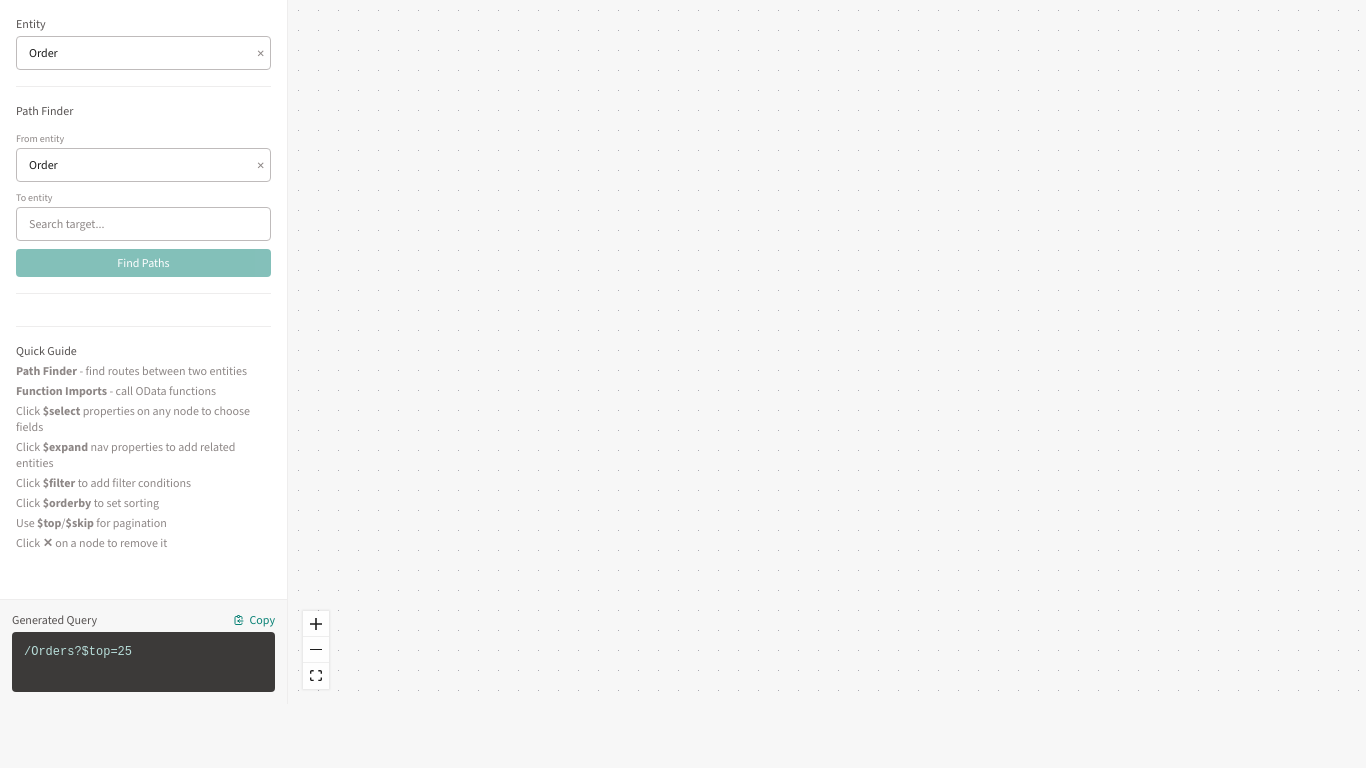
Test: QueryBuilder entity selector wiring › shows the built path again once an addressable entity is chosen
Step 1. Focus the 1st dropdown → (144, 53), box [16,36,271,70]
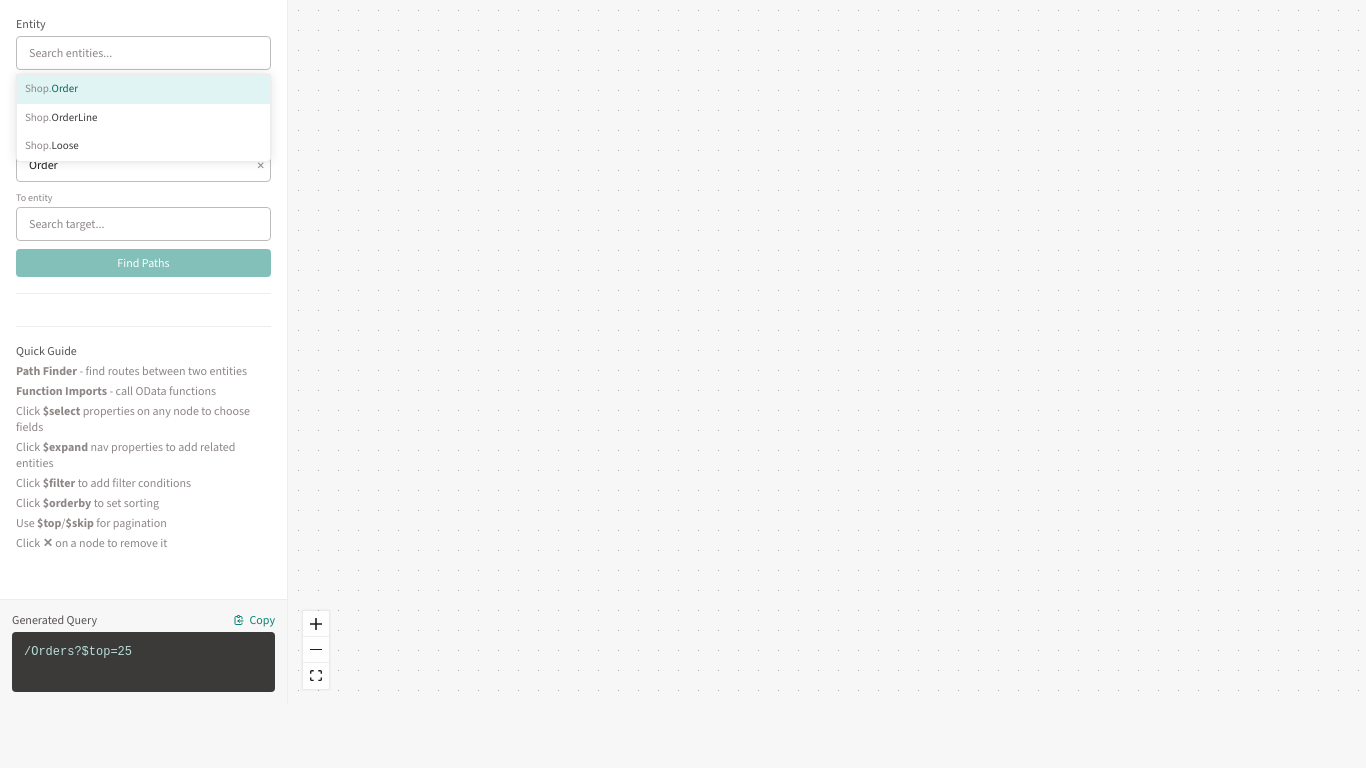
Step 2. Press the mouse on the option "Shop.Loose" → (144, 146), box [17,132,270,160]
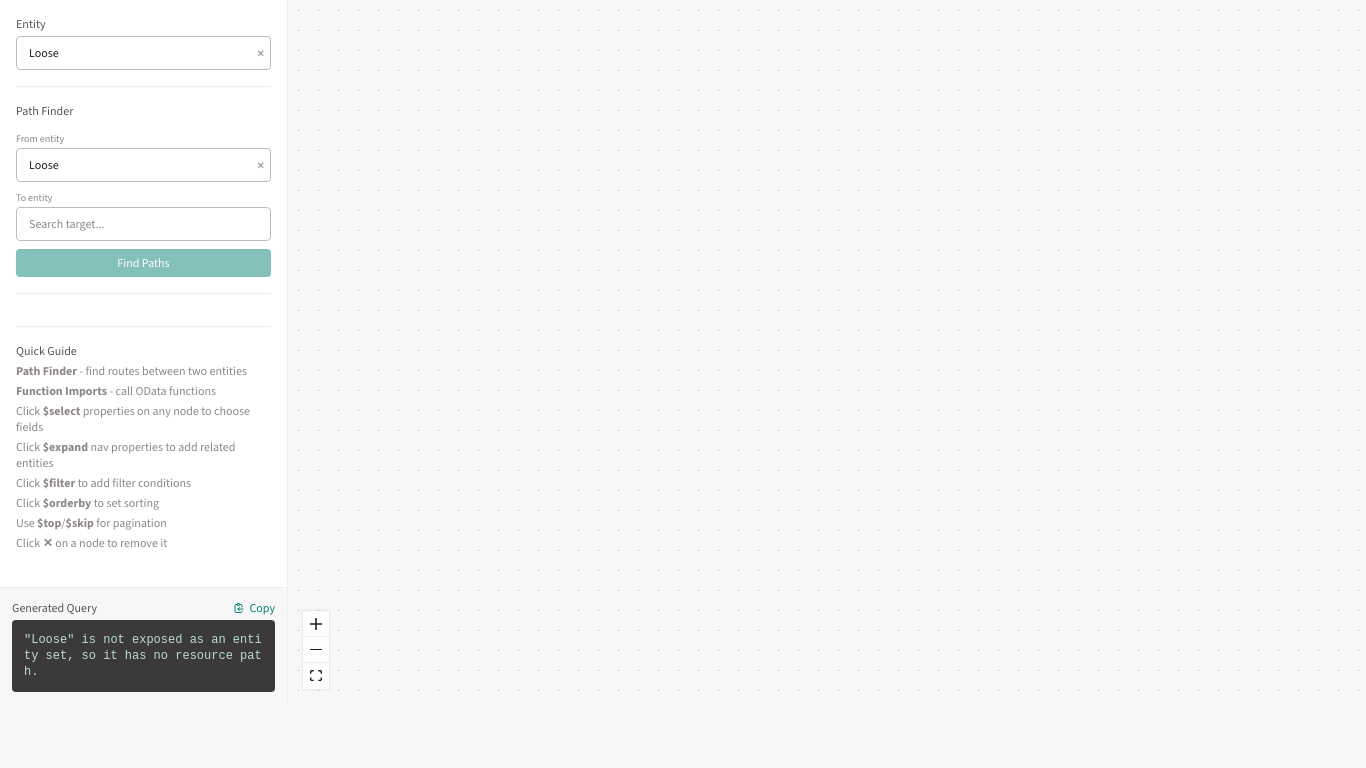
Expected: the text "not exposed as an entity set" is shown, [24,633,262,679]
Step 3. Focus the 1st dropdown → (144, 53), box [16,36,271,70]
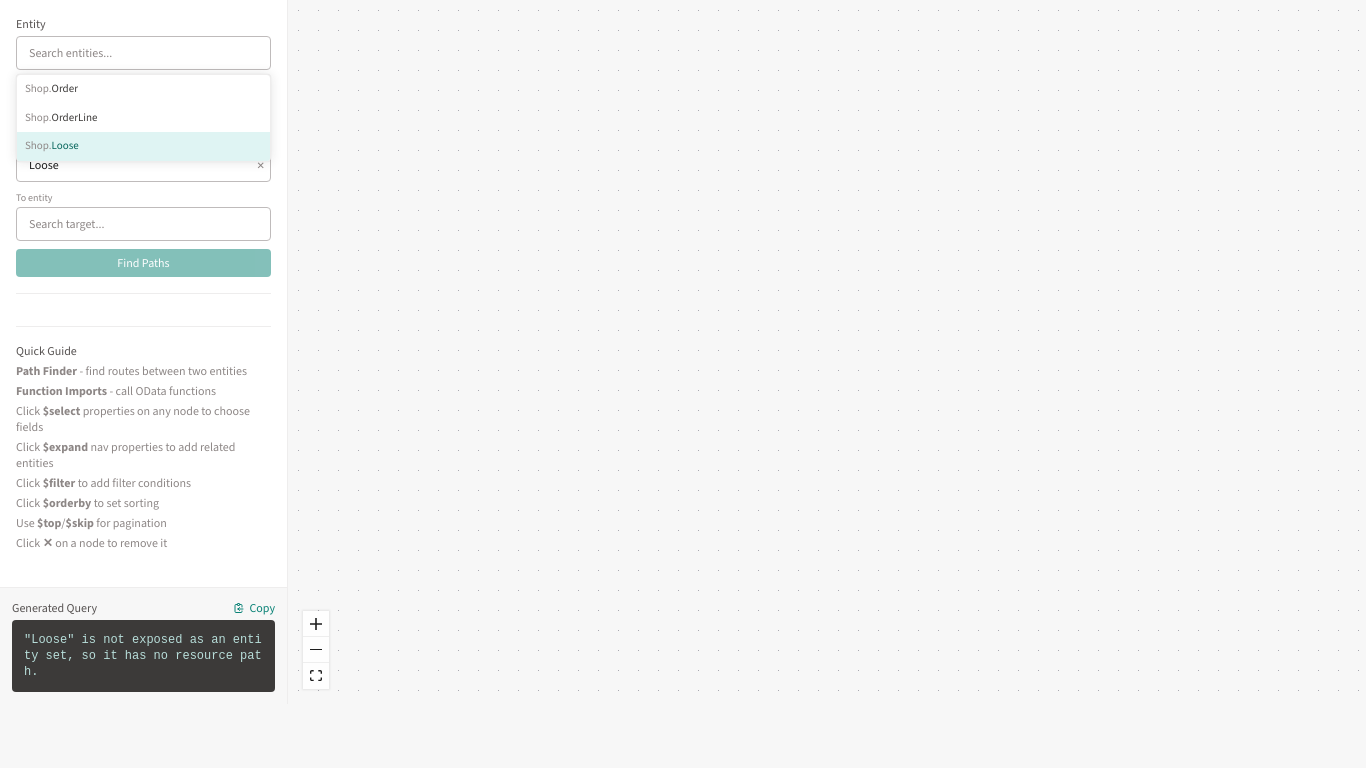
Step 4. Press the mouse on the option "Shop.OrderLine" → (144, 118), box [17,104,270,132]
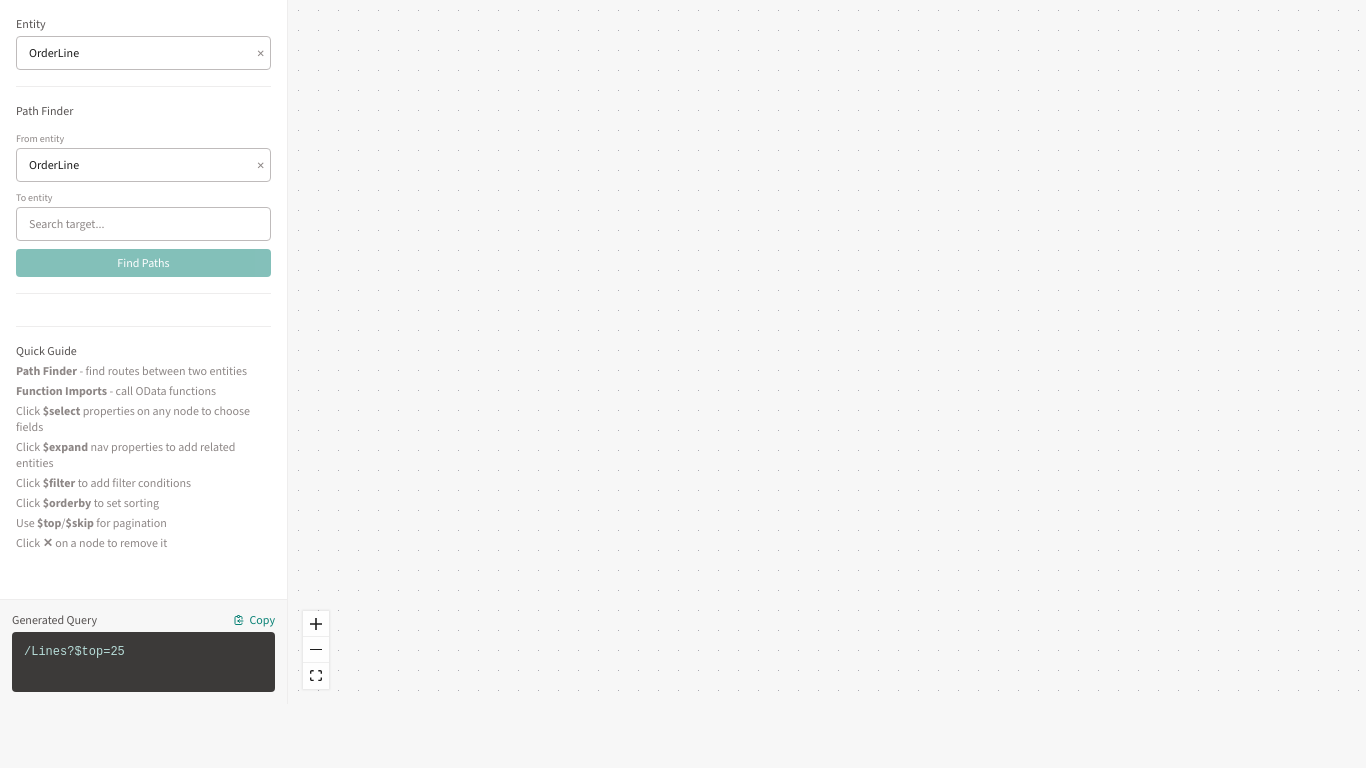
Expected: the text "/Lines?$top=25" is shown, [12,632,275,692]
